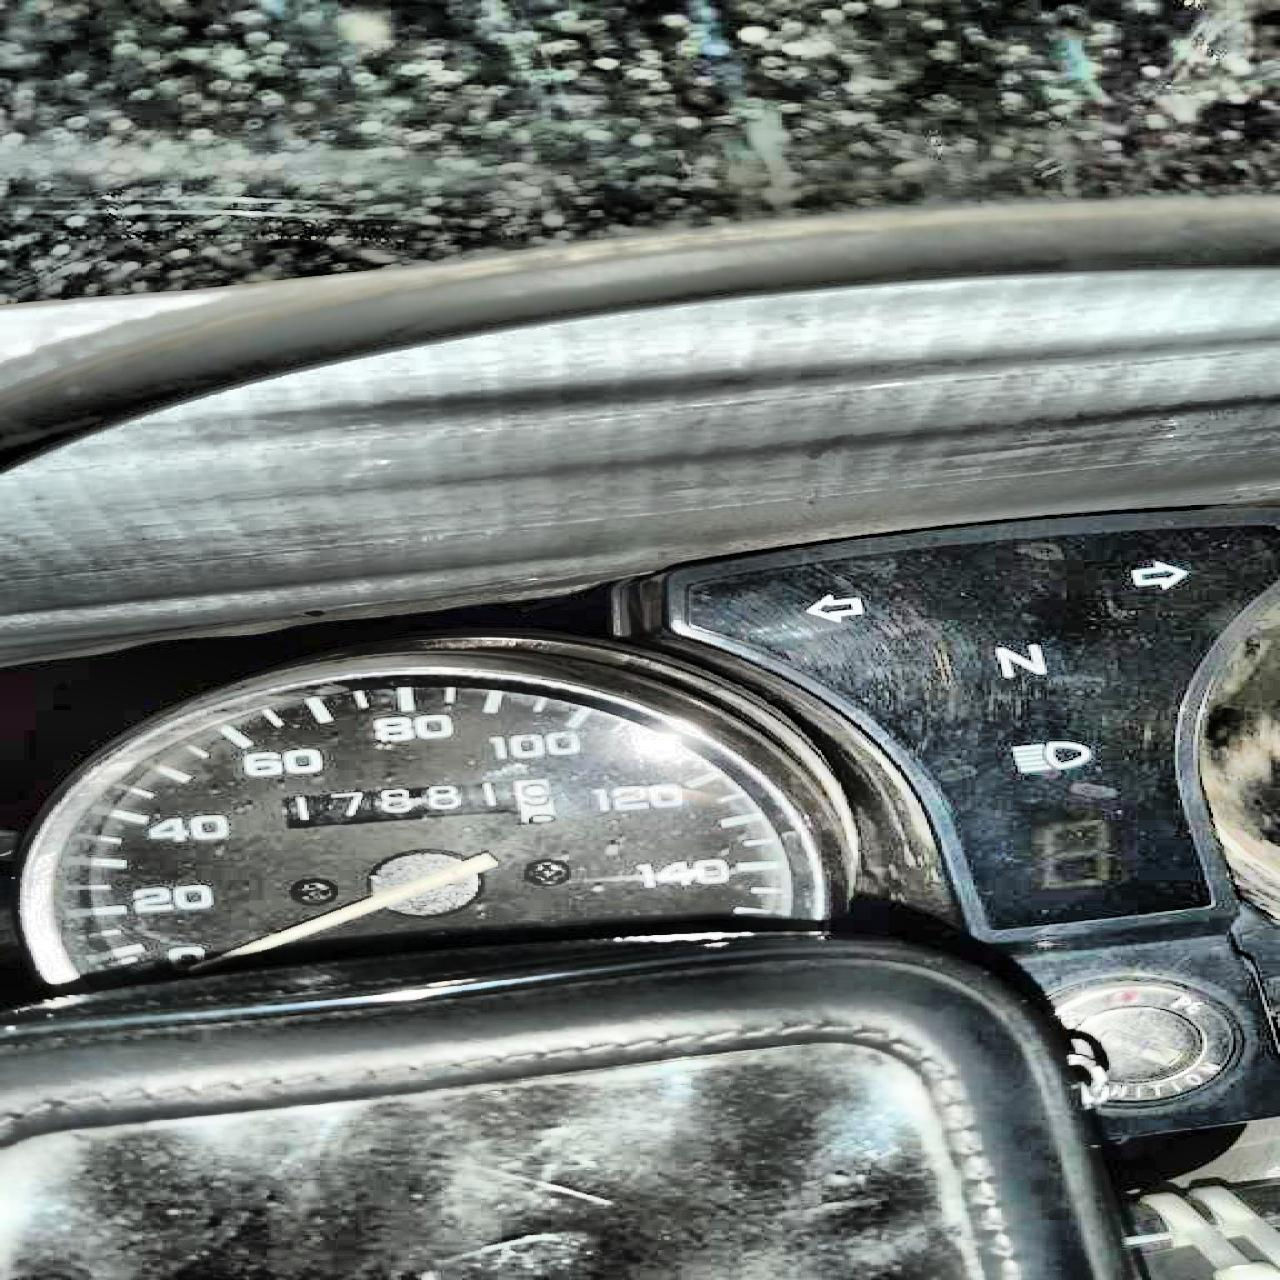1: (290, 792, 311, 823), (476, 778, 497, 808)
7: (327, 789, 365, 816)
8: (422, 782, 459, 810), (375, 787, 415, 812)
9: (516, 782, 551, 806)
odometer: (273, 775, 560, 830)
